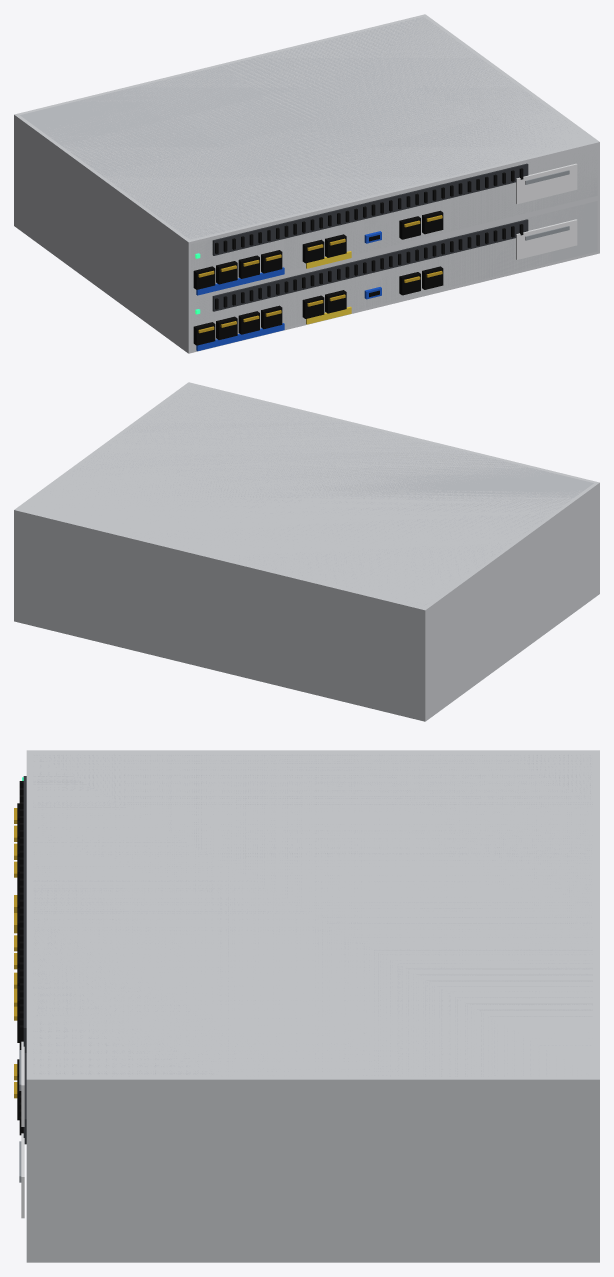
Rendered from 13-cisco-router-stacked-2x.glb.
3 renders of one model, top to bottom at view 1: azimuth 30°, elevation 25°; view 2: azimuth 150°, elevation 25°; view 3: azimuth 270°, elevation 25°, orthographic. The views are drawn at different scales.
Size of the model in its own units: 0.34 by 0.088 by 0.2555.
